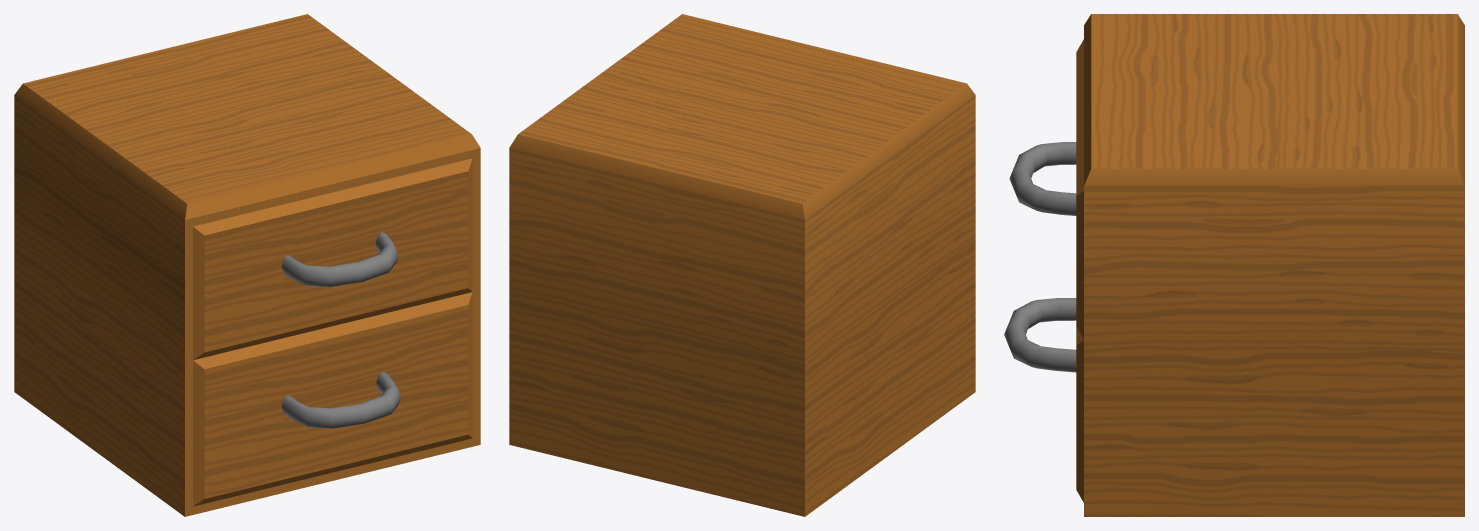
Rendered from Nachtisch.FBX.
3 views of the same model, side by side, from view 1: azimuth 30°, elevation 25°; view 2: azimuth 150°, elevation 25°; view 3: azimuth 270°, elevation 25° (orthographic). The views are drawn at different scales.
Visible parts, largest first — view 1: Nachttisch; view 2: Nachttisch; view 3: Nachttisch.
Part boxes in pixels (x1,y1,x2,y2): Nachttisch: (14,14,480,516); Nachttisch: (509,14,975,516); Nachttisch: (1004,14,1464,516).
Size of the model in its own units: 32.19 by 32.19 by 38.95.
